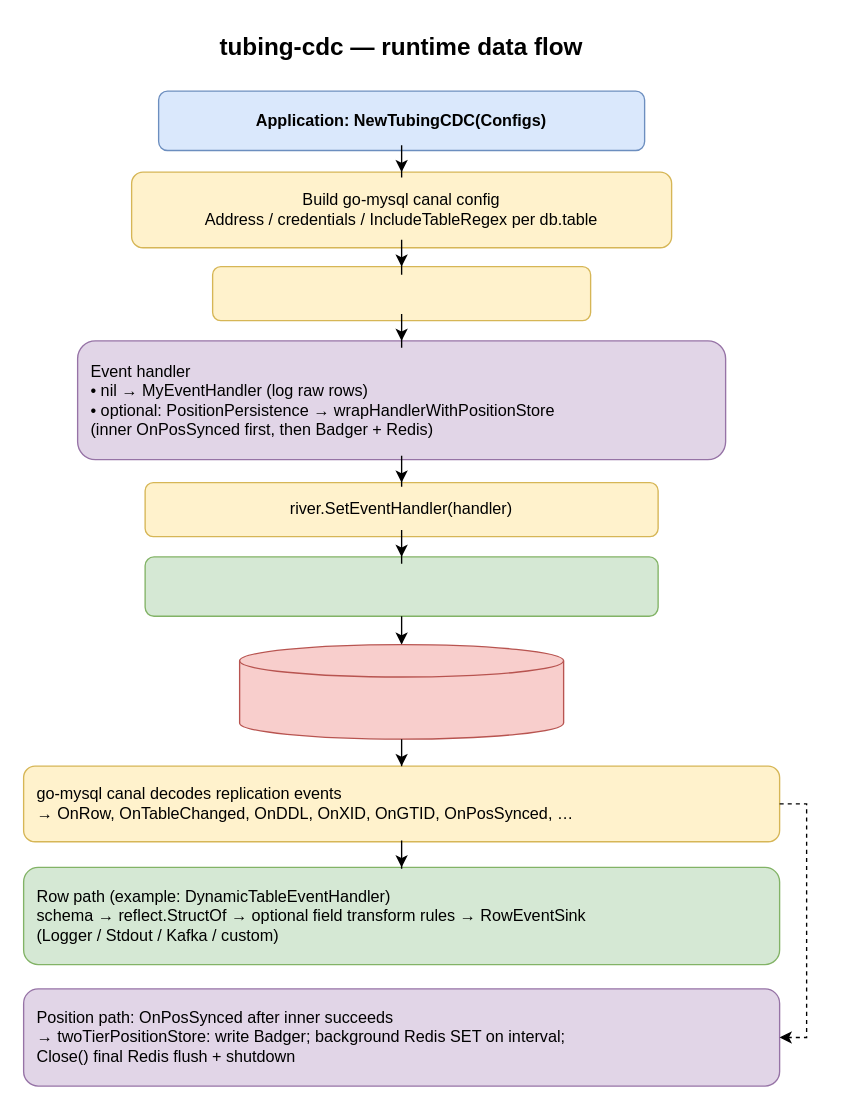
The diagram is 841 pixels wide and 1110 high, and some of its shapes have lost their labels. Each missing label, with the centre of its shape:
canal.NewCanal: the point at 401,293
MySQL binlog stream: the point at 401,691
Run() or RunFrom(mysql.Position) — blocks: the point at 401,586
